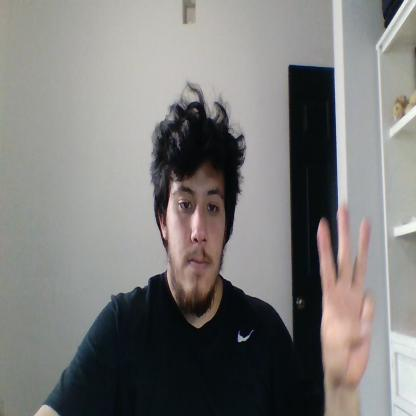W: (317, 202, 374, 387)
